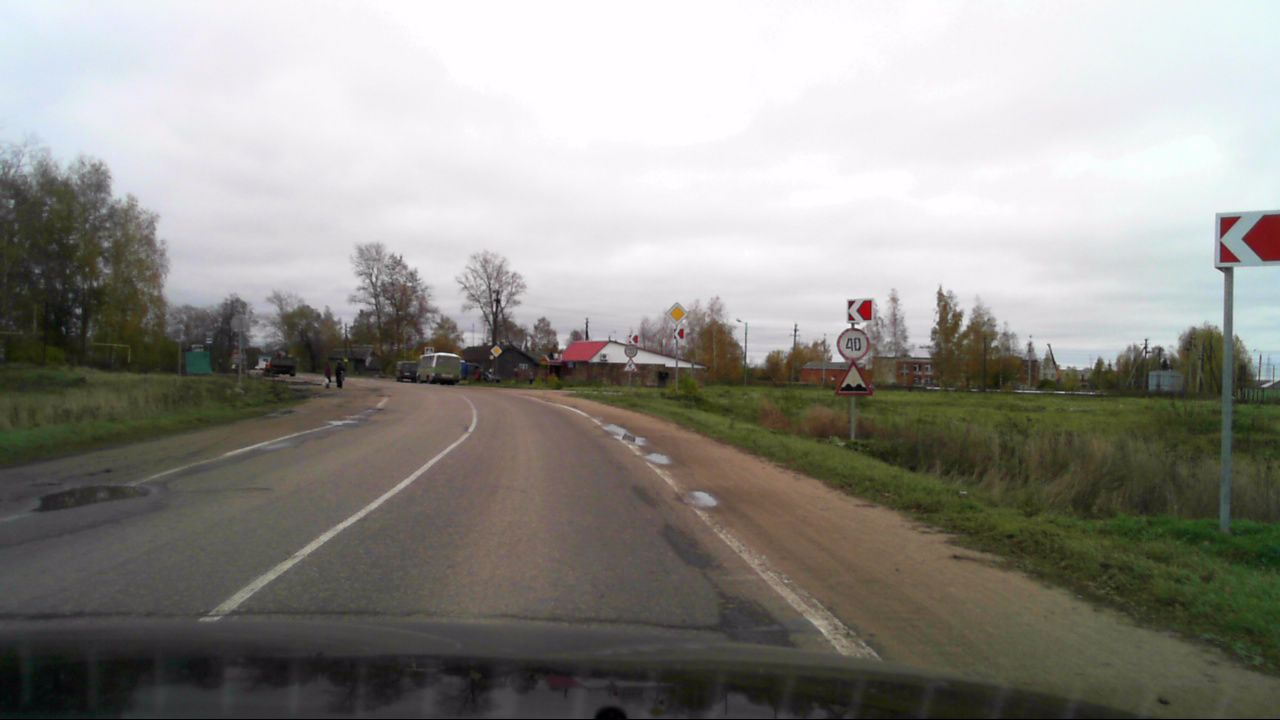speed_warning_40: (836, 327, 869, 361)
